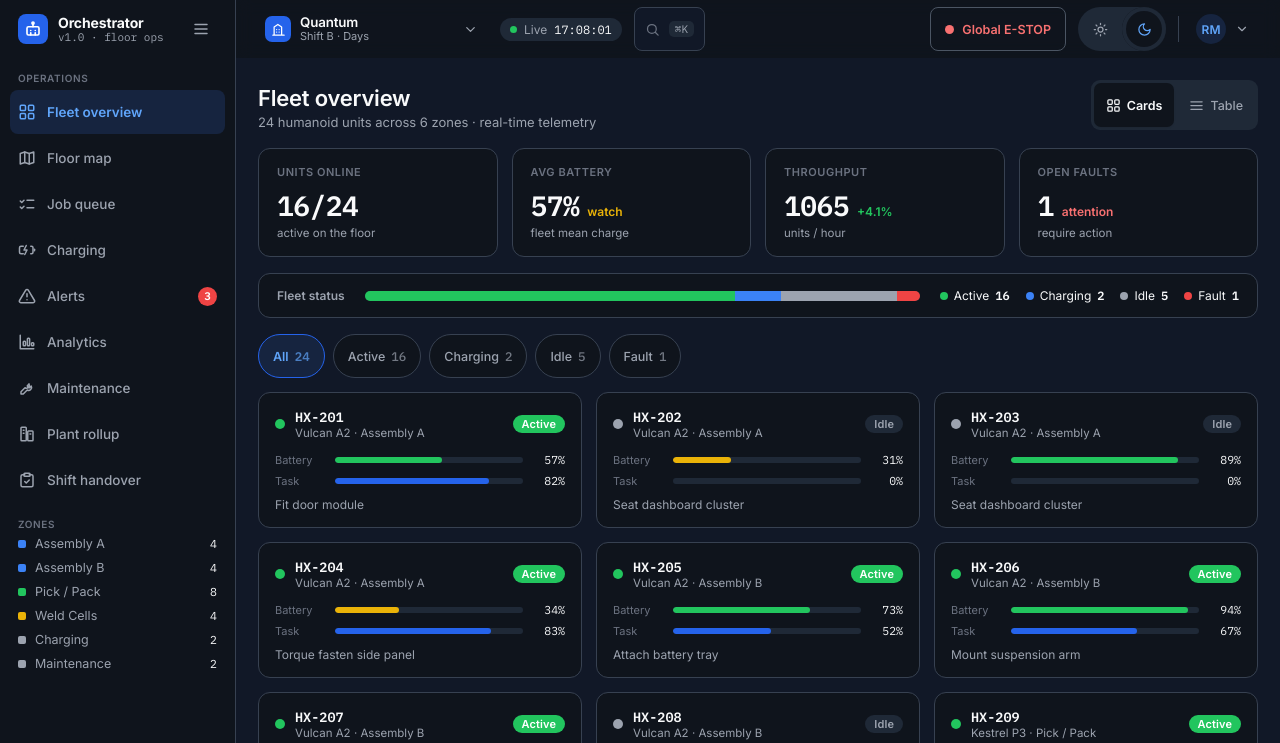
Test: floor map › opens a robot when its marker is clicked
Click the button "Floor map" at (118, 158), box [10,136,225,180]
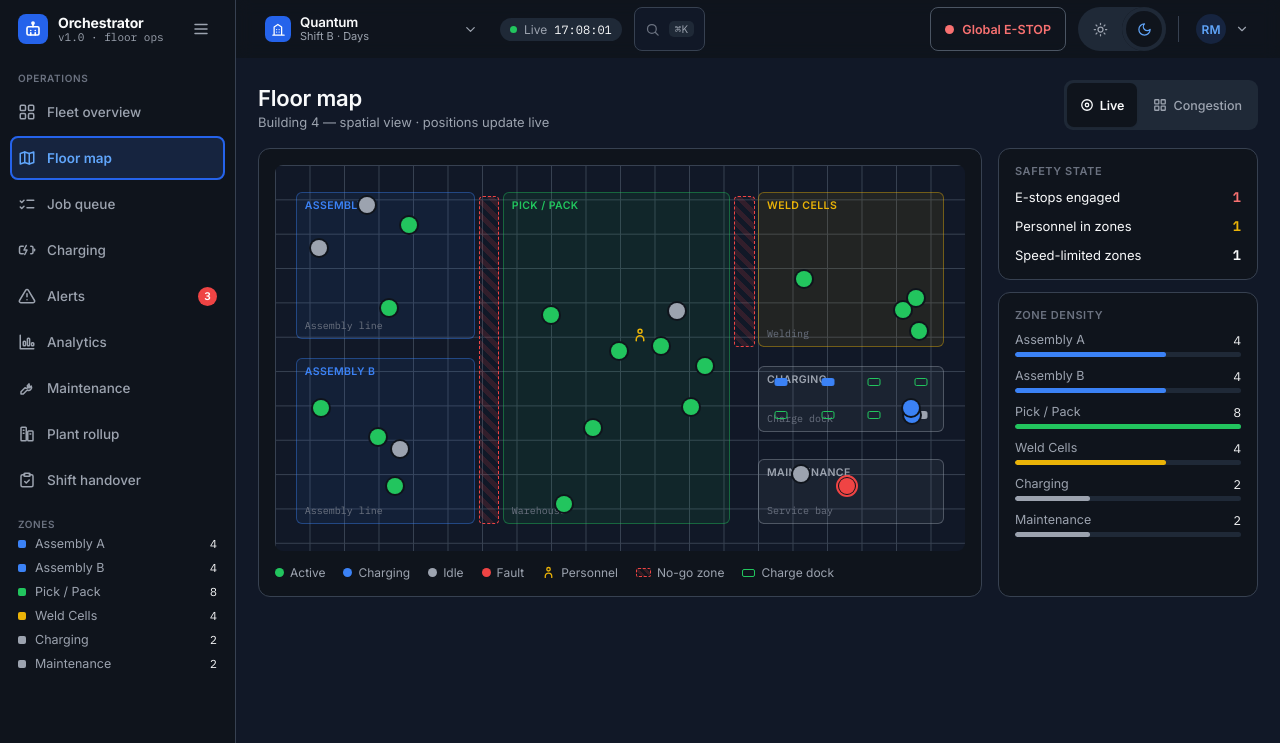
Click the element titled "HX-210" at (593, 428), box [585,420,601,436]
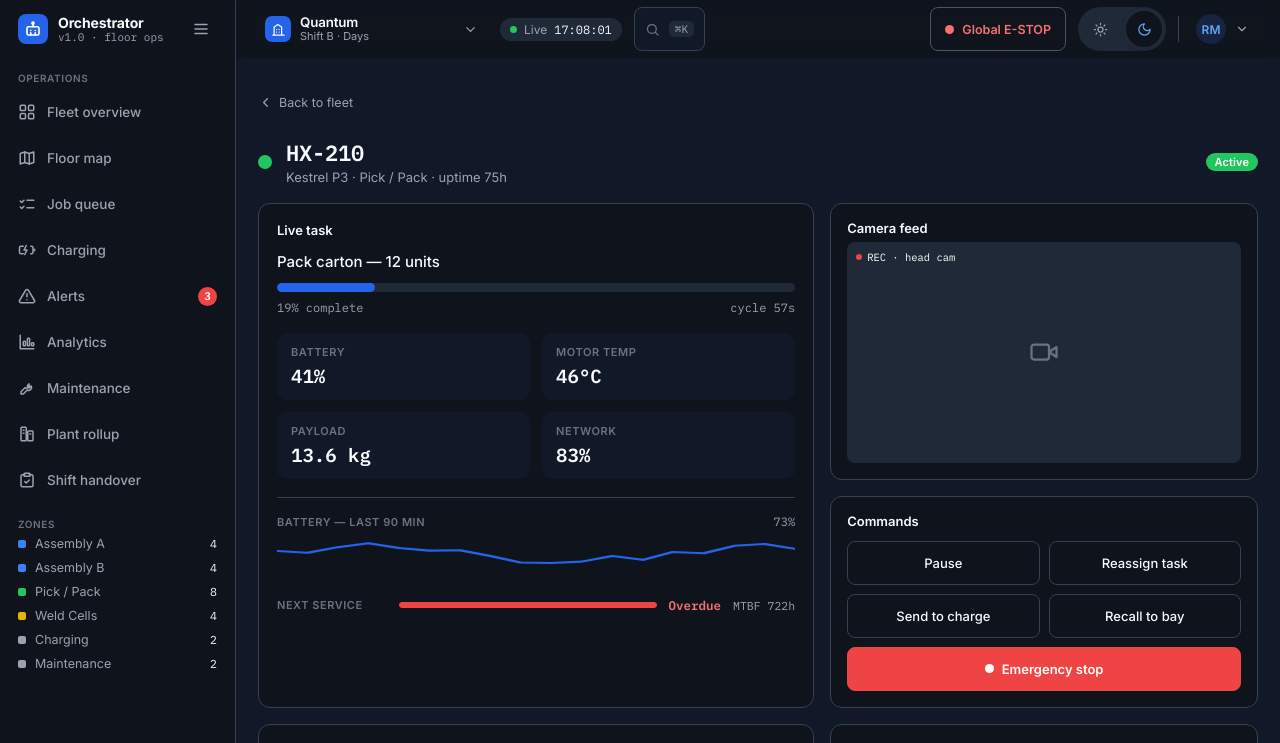
Check: the heading "HX-210" is shown, box [286,138,364,167]
